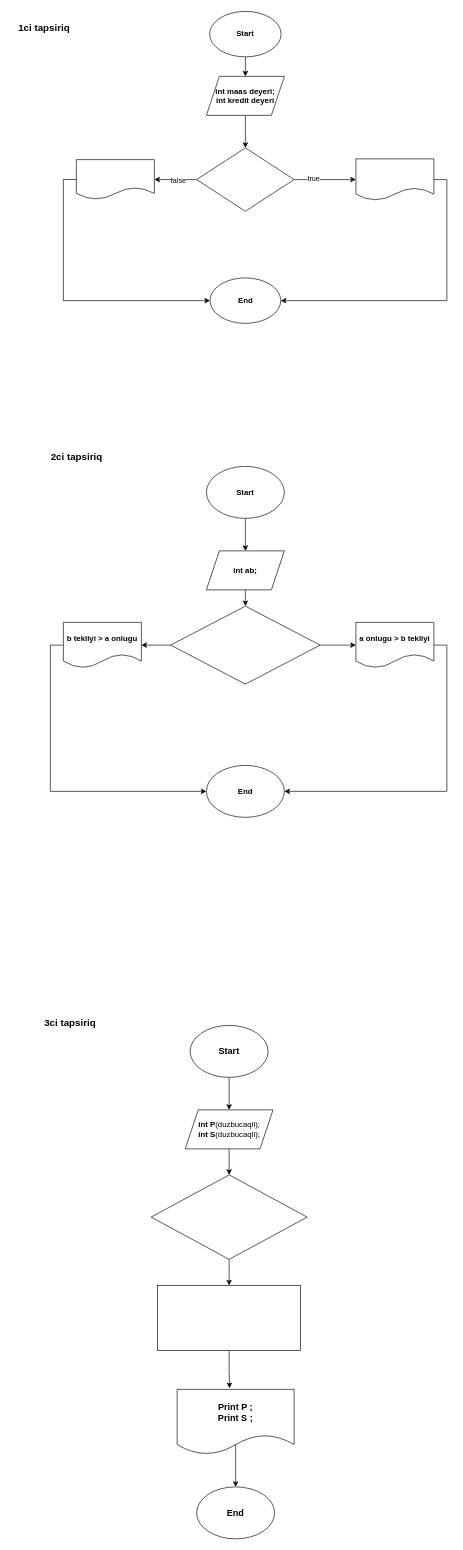
Image size: 463x1550. Some labels were removed from this diagram. Here are the shapes that lost their labels. From the top down, the centre of each, then its label:
(x=115, y=179): "Kredit goture bilersiniz!"
(x=245, y=179): illik maasin 60%'den azdirsa
(x=394, y=179): "Kredit goture bilmezsiniz!"
(x=245, y=644): a onlugu boyukdur b tekliyi yoxsa b tekliyi boyukdura onlugu
(x=228, y=1216): Duzbucaqlinin sahesini tapin, Duzbucaqlinin perimetrini tapin
(x=229, y=1317): P ( duzbucaqli) = 2(a+b) S ( duzbucaqli) = a*b
